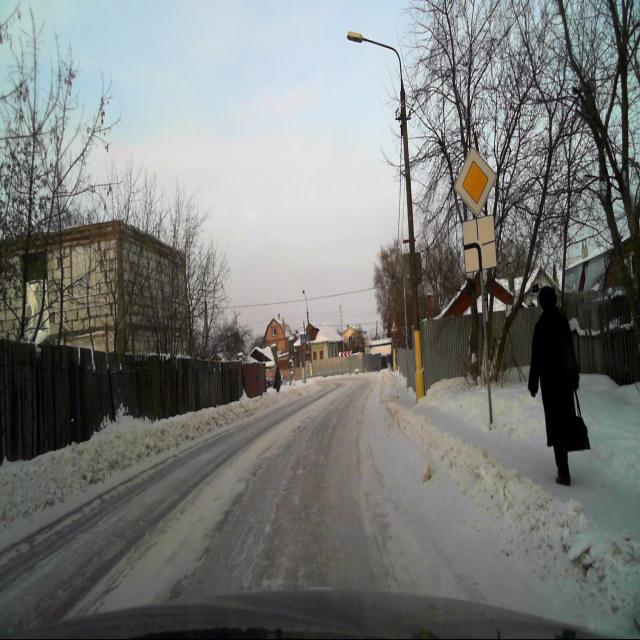road sign: (455, 146, 496, 217), (461, 216, 498, 273)
